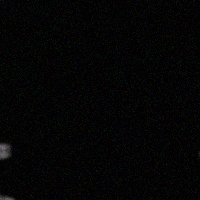chromosome: (0, 171, 20, 200), (0, 141, 11, 174), (198, 125, 200, 163), (151, 199, 186, 200)
